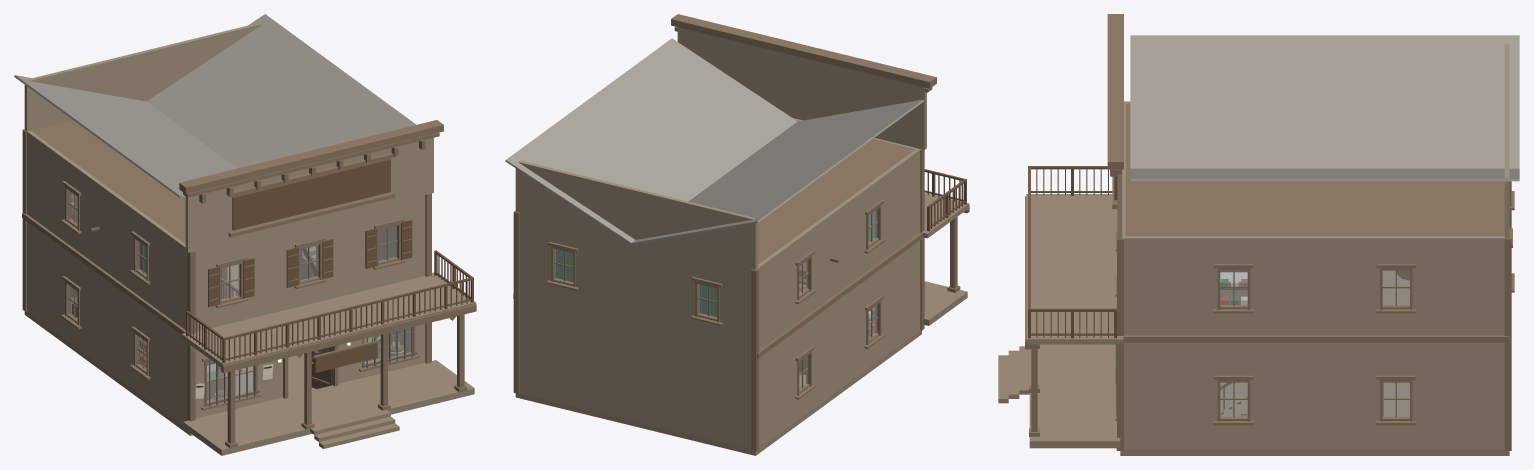
Rendered from armory2.glb.
The picture shows the model from 3 angles, left to right: view 1: azimuth 30°, elevation 25°; view 2: azimuth 150°, elevation 25°; view 3: azimuth 270°, elevation 25°; orthographic projection. The views are drawn at different scales.
Parts seen in each view (by area): view 1: Bldg_Armory2_geo, Arm2_Fit_geo; view 2: Bldg_Armory2_geo, Arm2_Fit_geo; view 3: Bldg_Armory2_geo, Arm2_Fit_geo.
Part boxes in pixels (x1,y1,x2,y2): Bldg_Armory2_geo: [14, 14, 476, 455]; Arm2_Fit_geo: [71, 192, 403, 400]; Bldg_Armory2_geo: [505, 14, 969, 455]; Arm2_Fit_geo: [556, 211, 875, 374]; Bldg_Armory2_geo: [998, 14, 1519, 455]; Arm2_Fit_geo: [1220, 270, 1409, 304].
Size of the model in its own units: 10.8 by 10.2 by 16.06.
